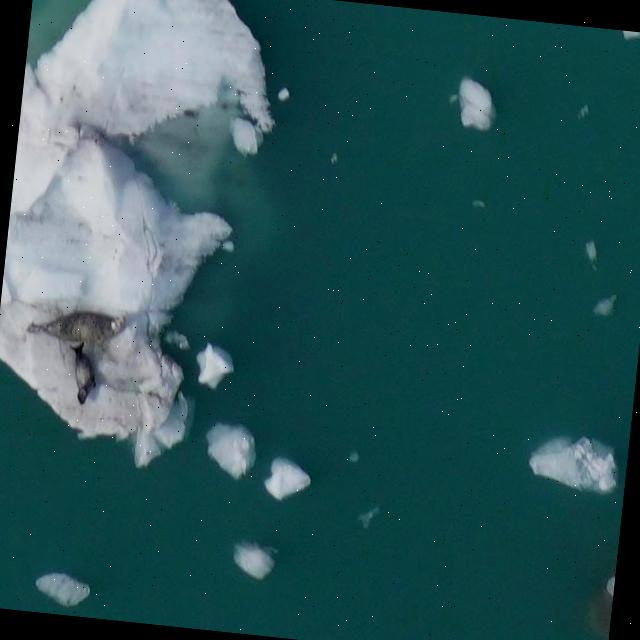seal: (27, 302, 127, 347), (69, 340, 96, 405)
